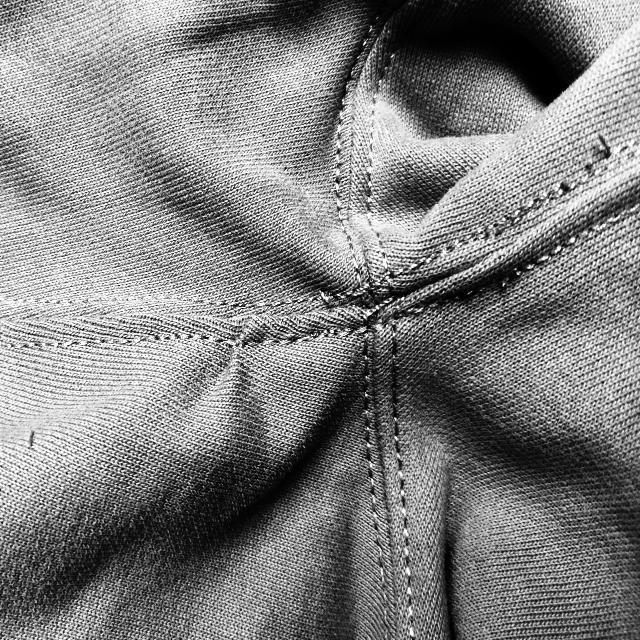Sewing_error: (345, 268, 404, 342)
